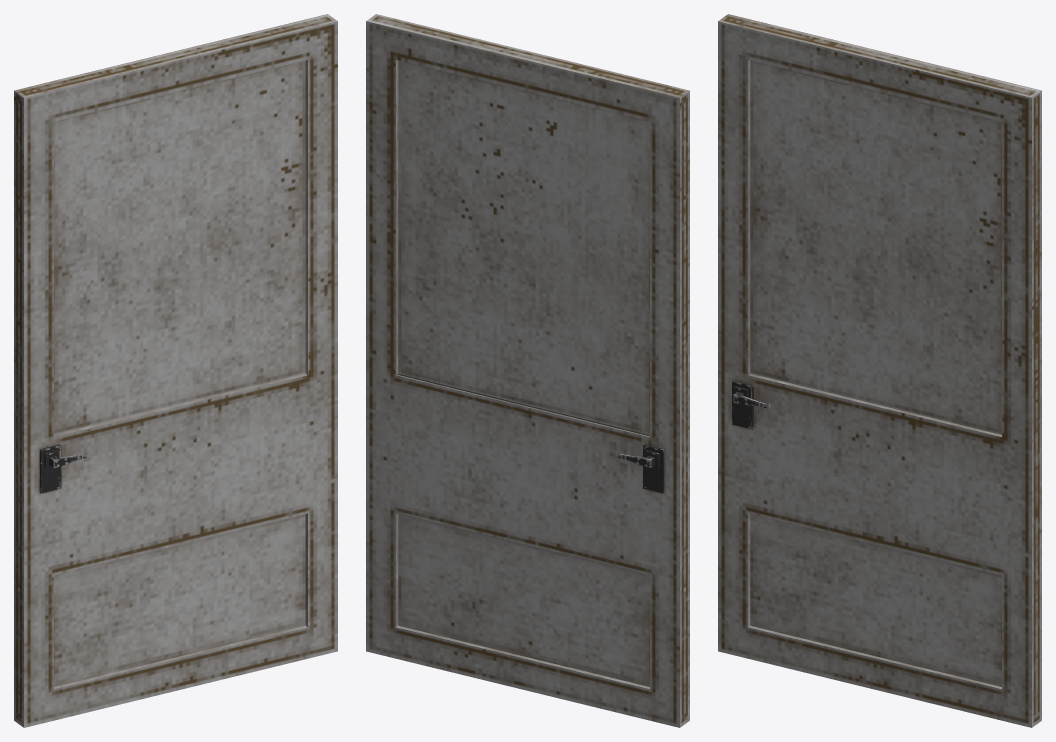
The model's file is Door.glb.
3 renders of one model, left to right at view 1: azimuth 30°, elevation 25°; view 2: azimuth 150°, elevation 25°; view 3: azimuth 330°, elevation 25°, orthographic.
Parts seen in each view (by area): view 1: Door; view 2: Door; view 3: Door.
Part boxes in pixels (<box>): Door: <box>14,14,337,727</box>; Door: <box>366,14,689,727</box>; Door: <box>718,14,1041,727</box>.
Bounding box in the file's own units: 0.98 × 1.88 × 0.1304.
1 material, 1 textured.
